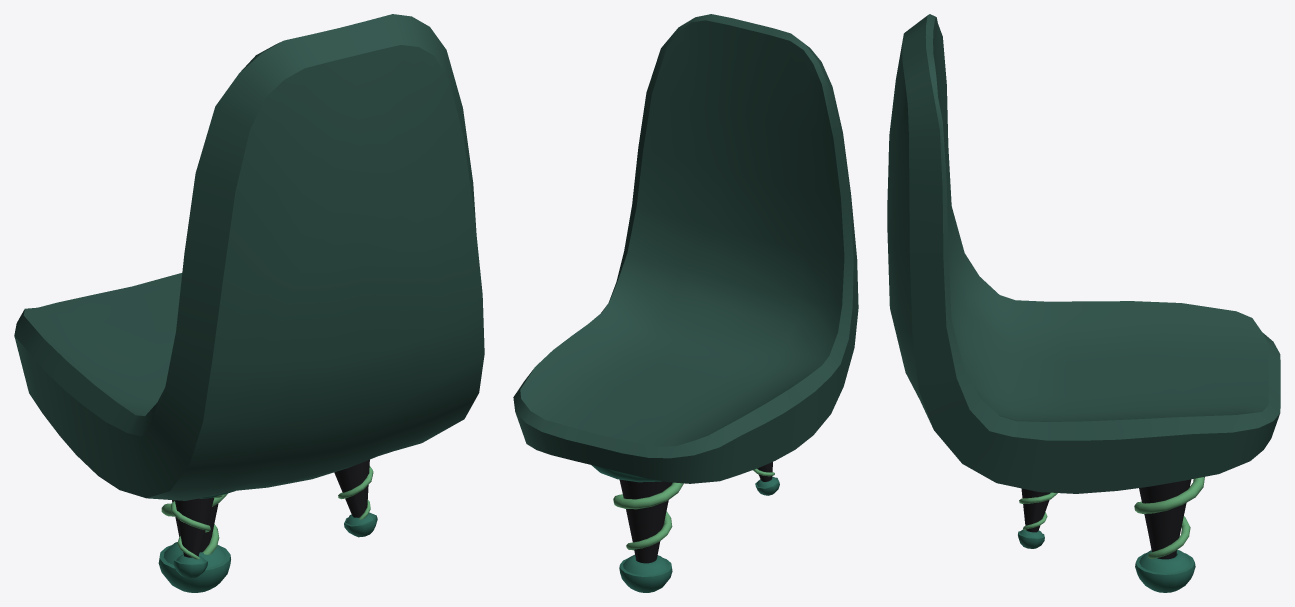
The model's file is Furn_ChairFloating_Green_A.glb.
3 renders of one model, left to right at view 1: azimuth 30°, elevation 25°; view 2: azimuth 150°, elevation 25°; view 3: azimuth 270°, elevation 25°, orthographic. The views are drawn at different scales.
Parts seen in each view (by area): view 1: Furn_ChairFloating_Green_A.001; view 2: Furn_ChairFloating_Green_A.001; view 3: Furn_ChairFloating_Green_A.001.
Boxes of the visible parts, x1,y1,x2,y2 form: Furn_ChairFloating_Green_A.001: (14,14,484,592); Furn_ChairFloating_Green_A.001: (513,14,858,592); Furn_ChairFloating_Green_A.001: (887,14,1280,592).
Size of the model in its own units: 0.3562 by 0.7057 by 0.458.
